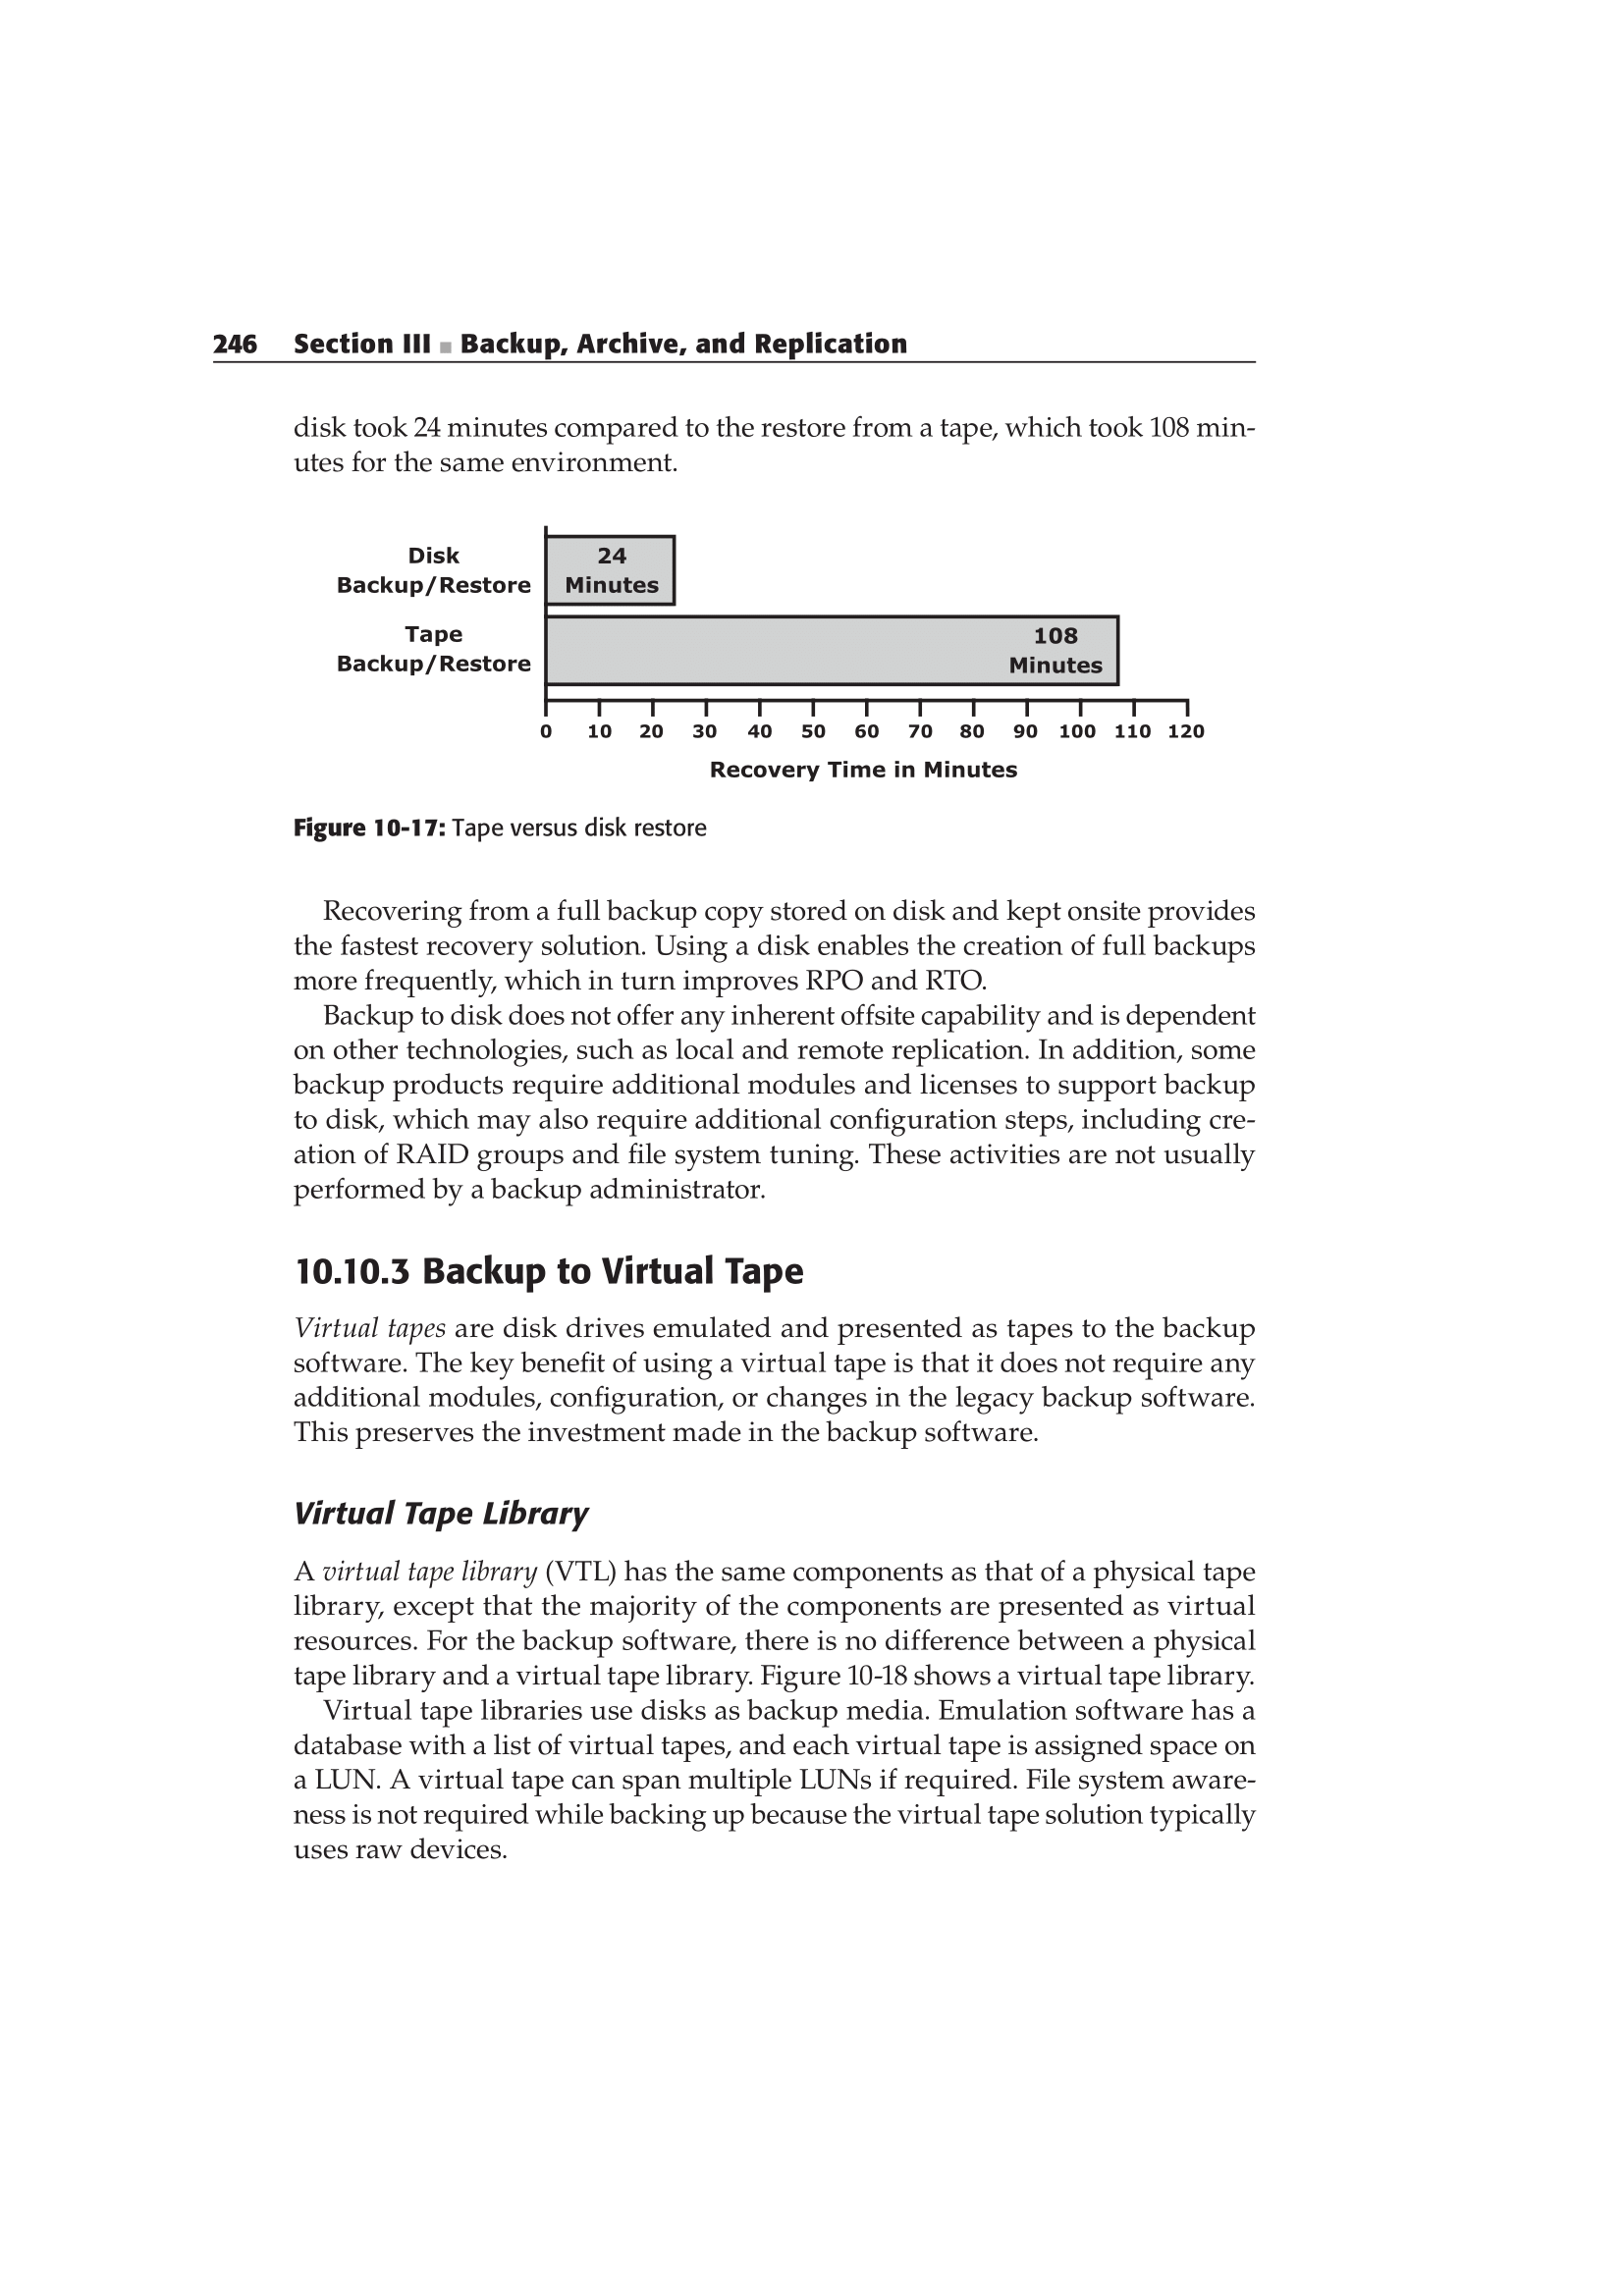Image: (202, 523, 1446, 792)
Paragraph: (214, 1559, 1300, 1873), (163, 1311, 1340, 1474), (181, 393, 1312, 507), (256, 885, 1303, 1006), (142, 302, 1119, 377), (263, 1227, 901, 1299), (214, 1499, 708, 1546)
